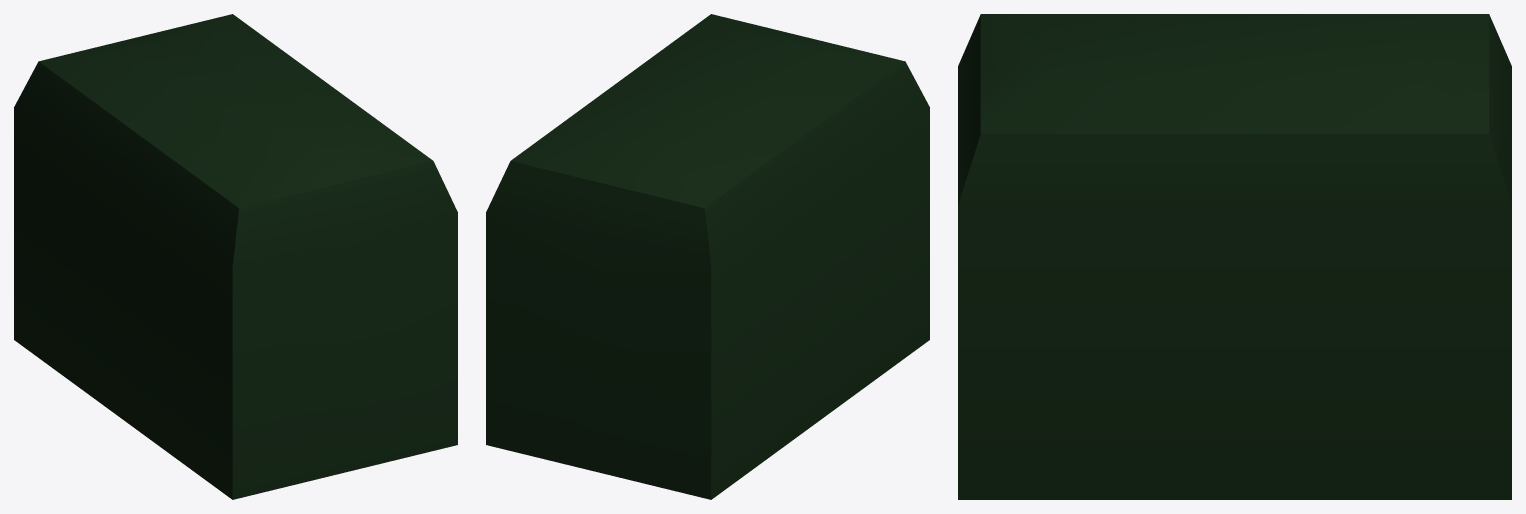
The model's file is glassBoxVar1.fbx.
3 views of the same model, side by side, from view 1: azimuth 30°, elevation 25°; view 2: azimuth 150°, elevation 25°; view 3: azimuth 270°, elevation 25° (orthographic). The views are drawn at different scales.
Visible parts, largest first — view 1: GlassBox026; view 2: GlassBox026; view 3: GlassBox026.
Boxes of the visible parts, x1,y1,x2,y2 form: GlassBox026: (14, 14, 457, 499); GlassBox026: (486, 14, 929, 499); GlassBox026: (958, 14, 1511, 499).
Size of the model in its own units: 157 by 198 by 264.
